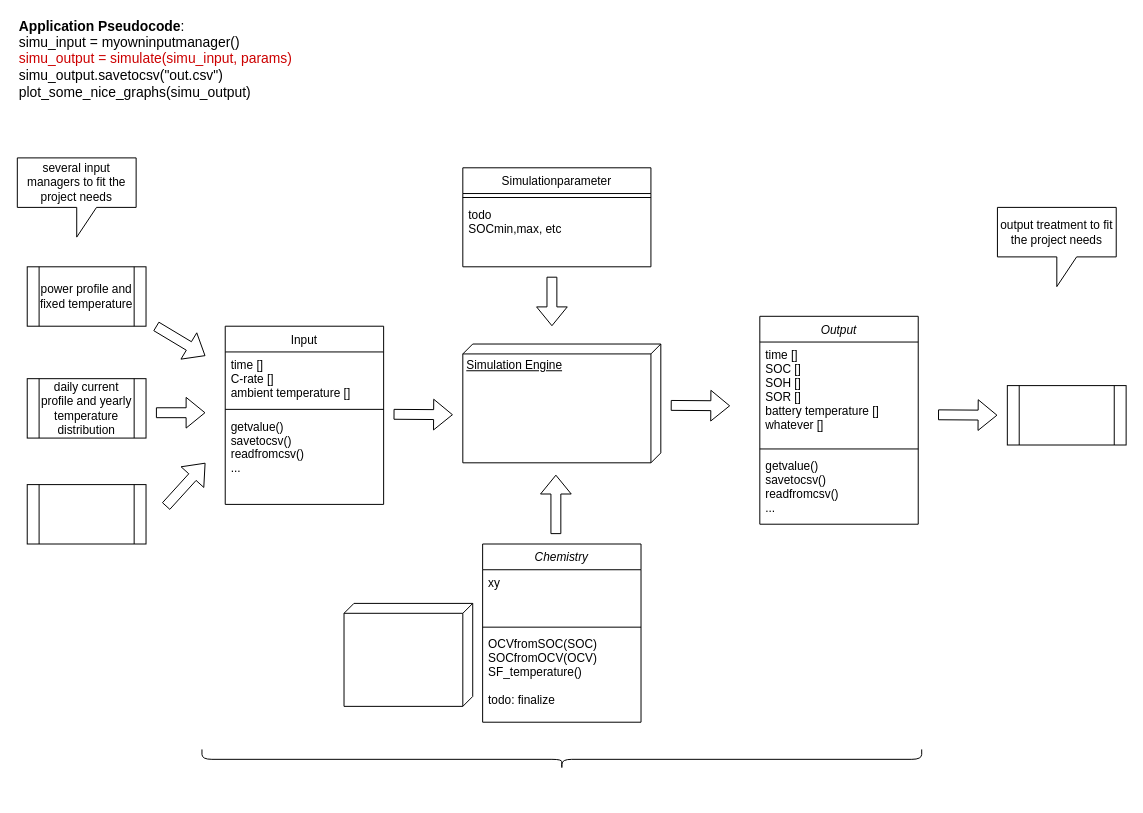
This 1143x813 diagram has some shape labels left out. The centre of each missing label's shape, as x and y in pixels:
Chemistry library NMC NCA LFP LTO: point (408, 654)
core engine shared by multiple projects: point (561, 758)
Output charts: point (1066, 415)
take a measured profile and add simulated secondary use: point (86, 514)
